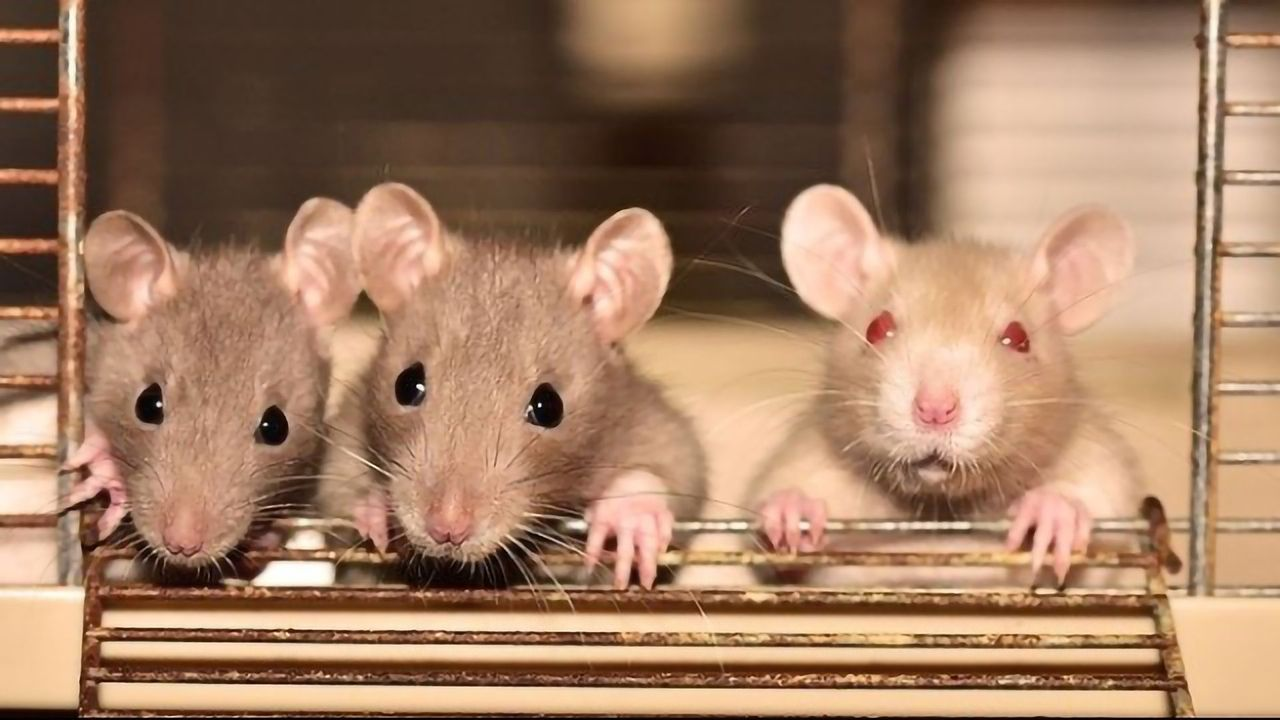Rat: (739, 164, 1162, 594), (343, 168, 708, 586), (56, 141, 360, 607)
